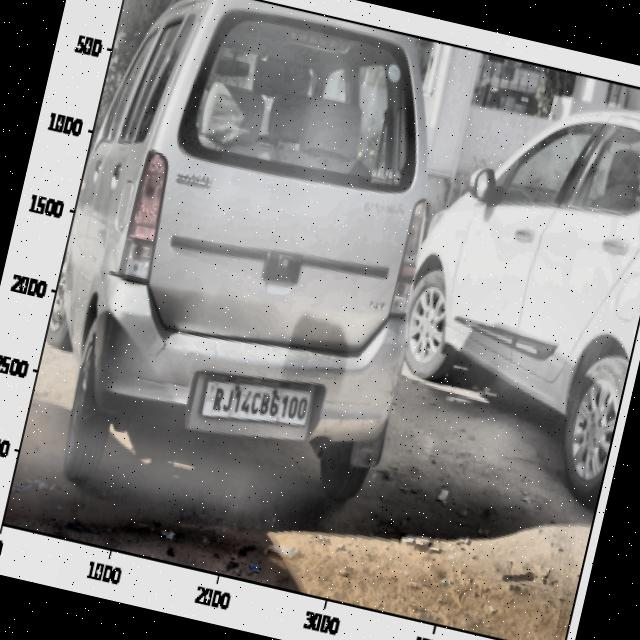license_plate: (206, 371, 313, 434)
